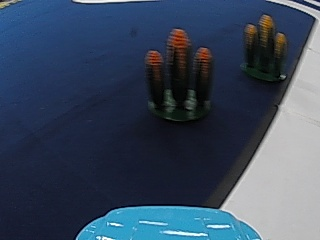corn: (144, 34, 212, 124), (242, 11, 288, 83)
